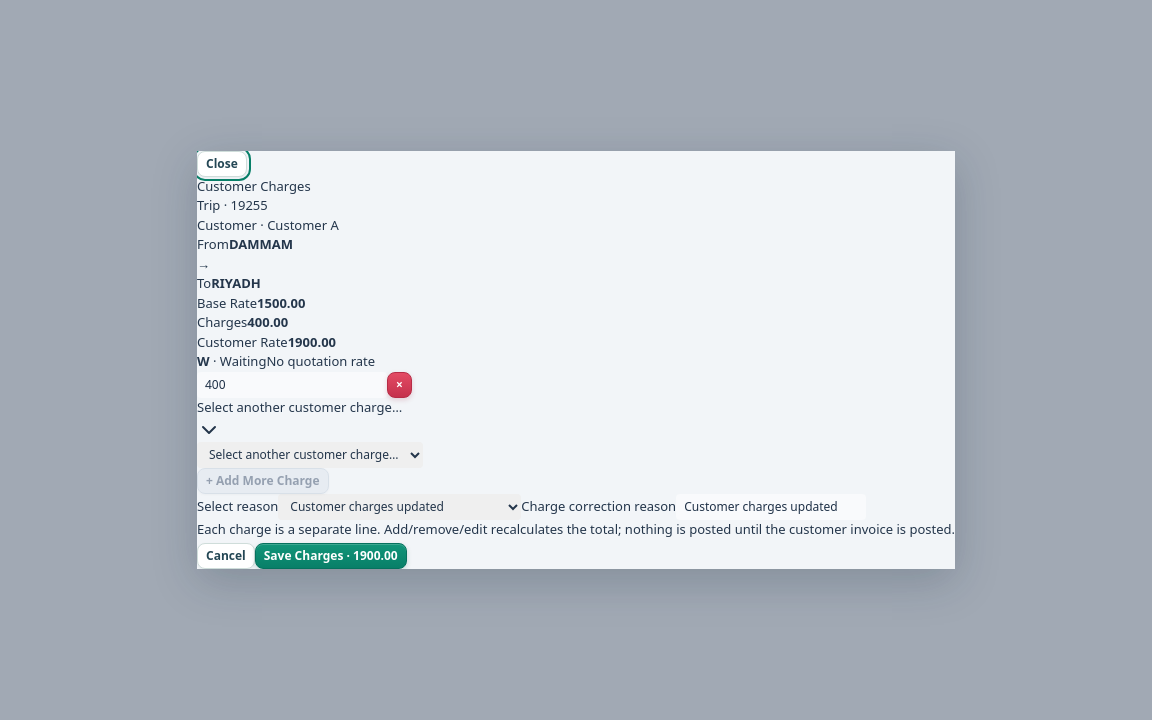
Test: keeps the customer base fixed when removing a saved legacy charge
Expected: the number field named "Waiting amount" is shown, [197,372,387,398]
Click the button "×": click(399, 385) [387,372,412,398]
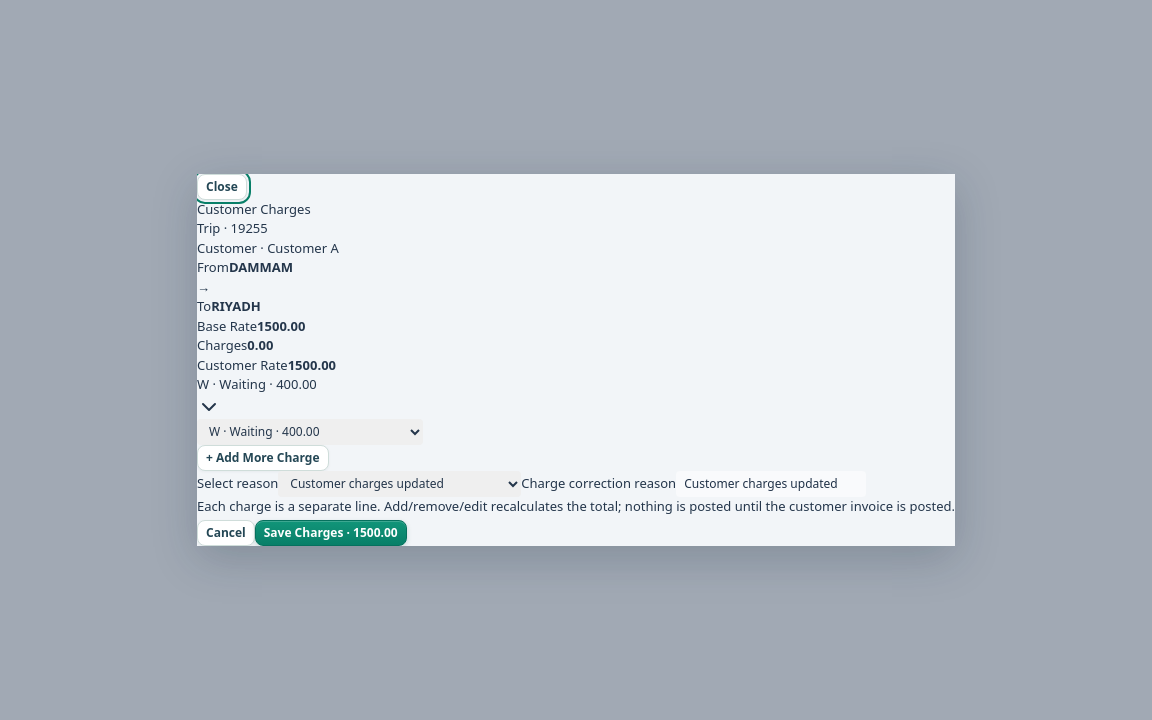
Now the button "Save Charges · 1500.00" is shown, box [255,520,407,546]
